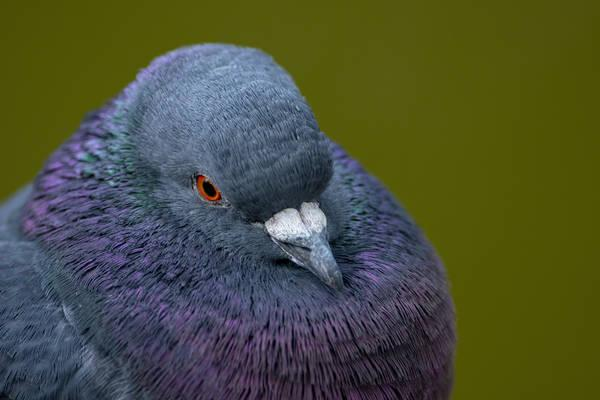Flying Rat: (1, 47, 453, 400)
